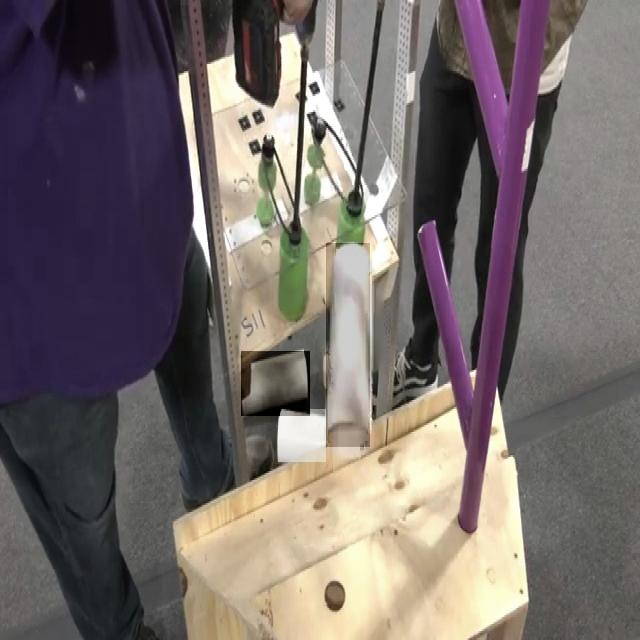Coral: (326, 243, 370, 447), (241, 351, 310, 416), (278, 409, 326, 462)
